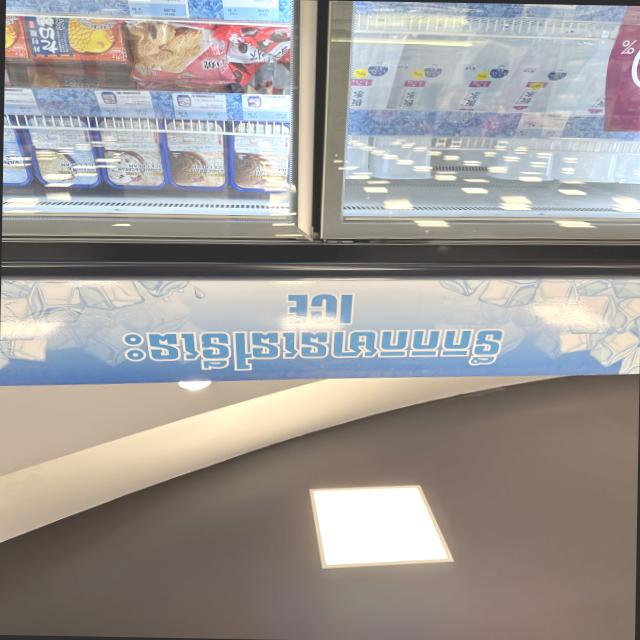Yolov11kh: (117, 323, 513, 375)
